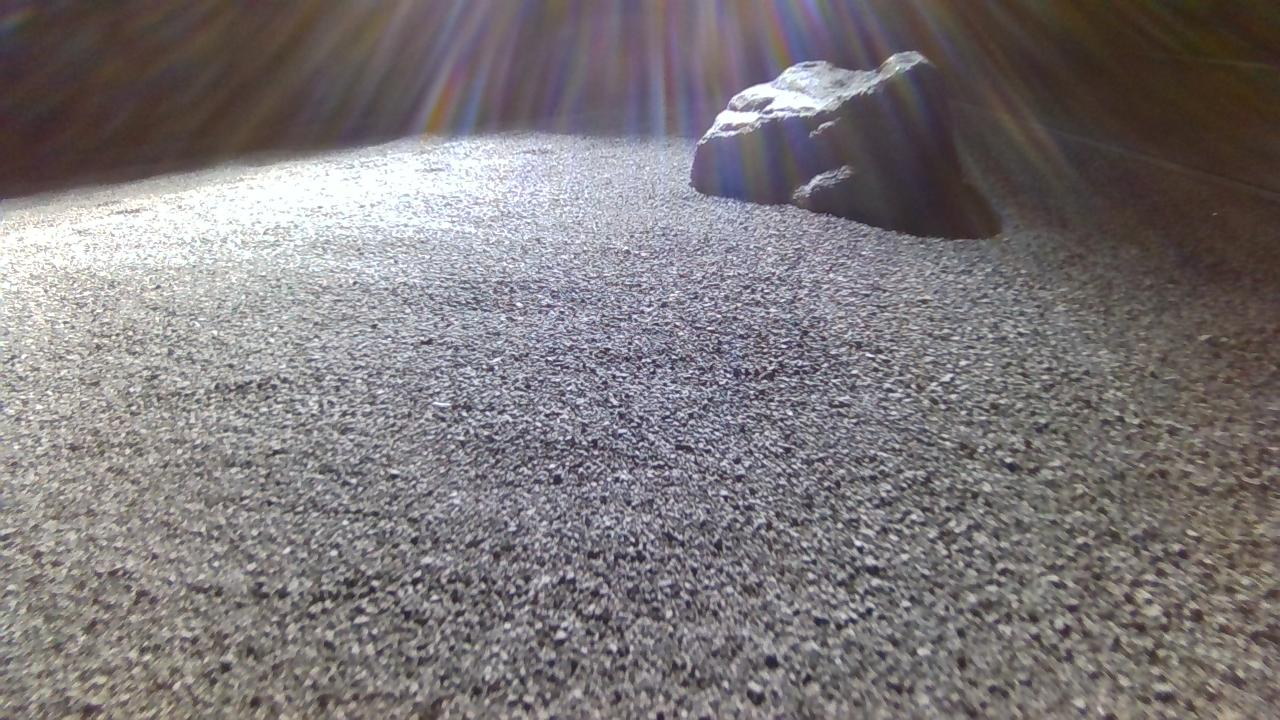rock: (692, 50, 973, 236)
